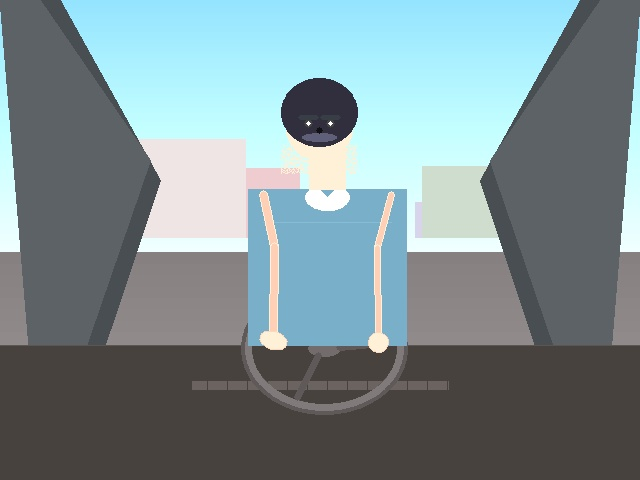normal_driving: (128, 196, 324, 348)
